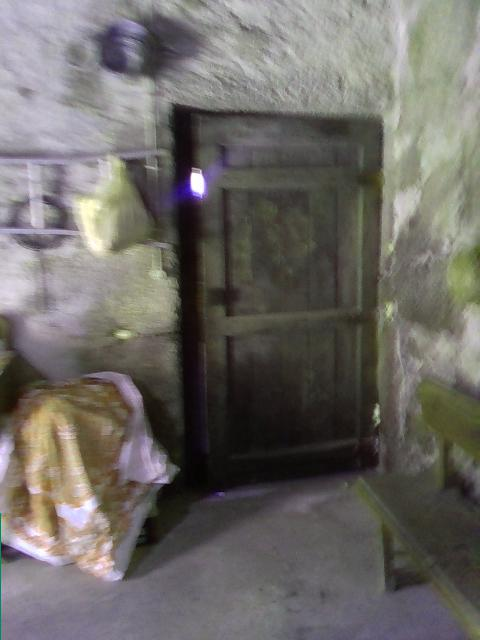closed_door: (169, 100, 387, 486)
